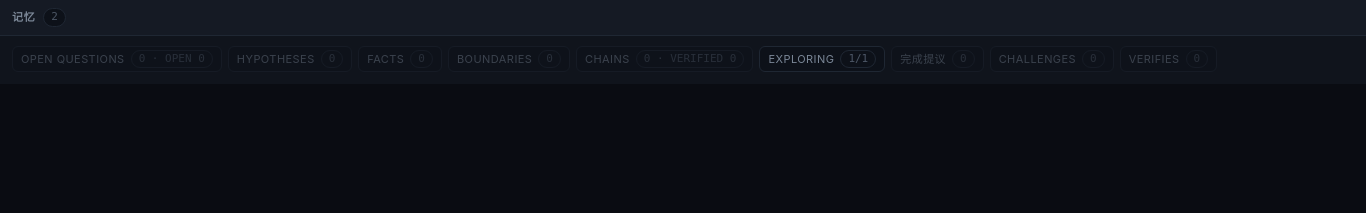
Scenario: MemoryPanel › shows active/completed counts without authors, keeping completed visible
The width and height of the screenshot is (1366, 213).
Click the button with aria-label "memory group exploring" at (822, 59), box [759, 46, 885, 72]
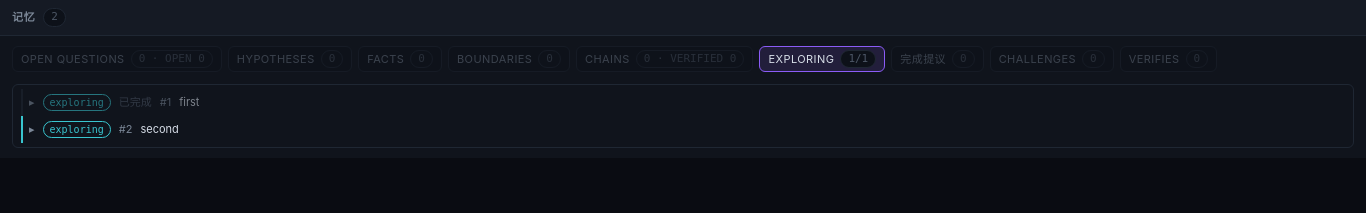
Click the button with aria-label "memory item 1" at (77, 102), box [23, 89, 1345, 116]
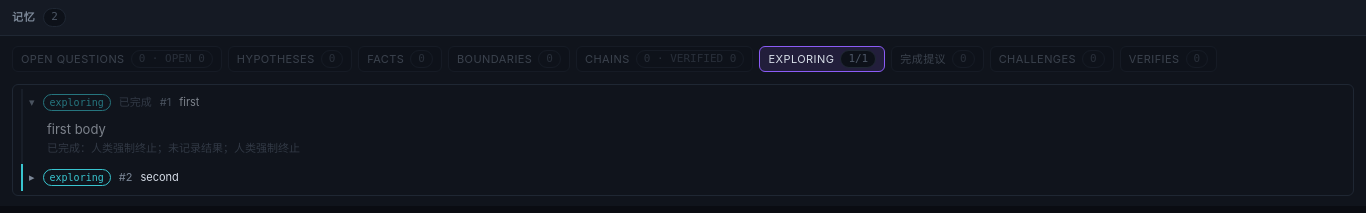
Expected: the text "second" is shown, [140, 170, 179, 184]
Expected: the text "已完成：人类强制终止；未记录结果；人类强制终止" is shown, [47, 140, 300, 154]
Expected: the text "first body" is shown, [47, 121, 106, 137]
